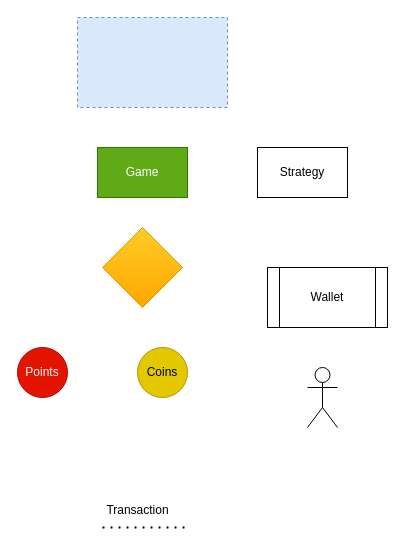
This 405x547 diagram has some shape labels left out. Here are the shapes that lost their labels. From the top down, the centre of each, then its label:
At point 152,62: "Platform".
At point 142,267: "Task".
At point 322,397: "User".
